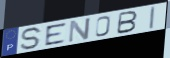0: (95, 15, 112, 38)
B: (116, 10, 139, 35)
E: (45, 21, 68, 47)
I: (149, 5, 157, 30)
N: (67, 17, 92, 44)
S: (20, 26, 44, 51)
